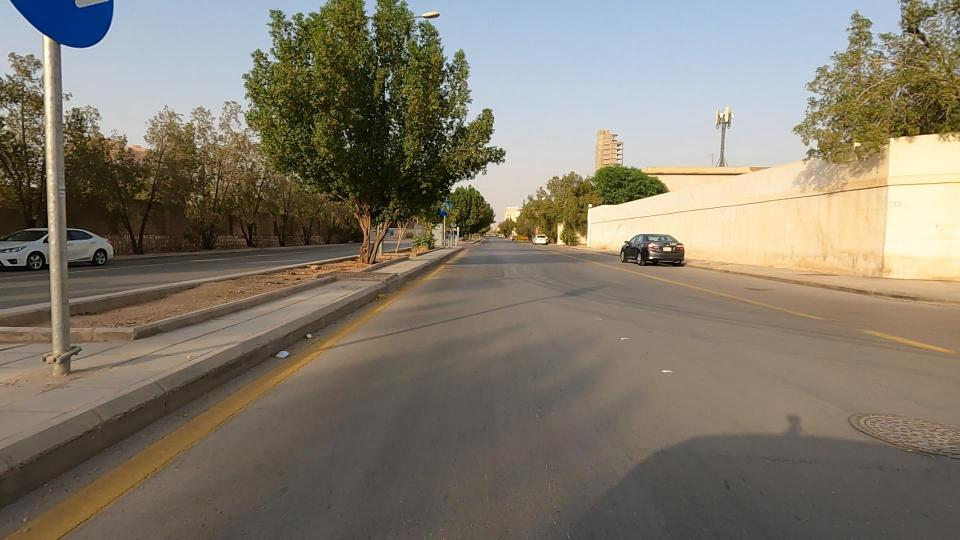GARBAGE: (230, 299, 357, 390)
